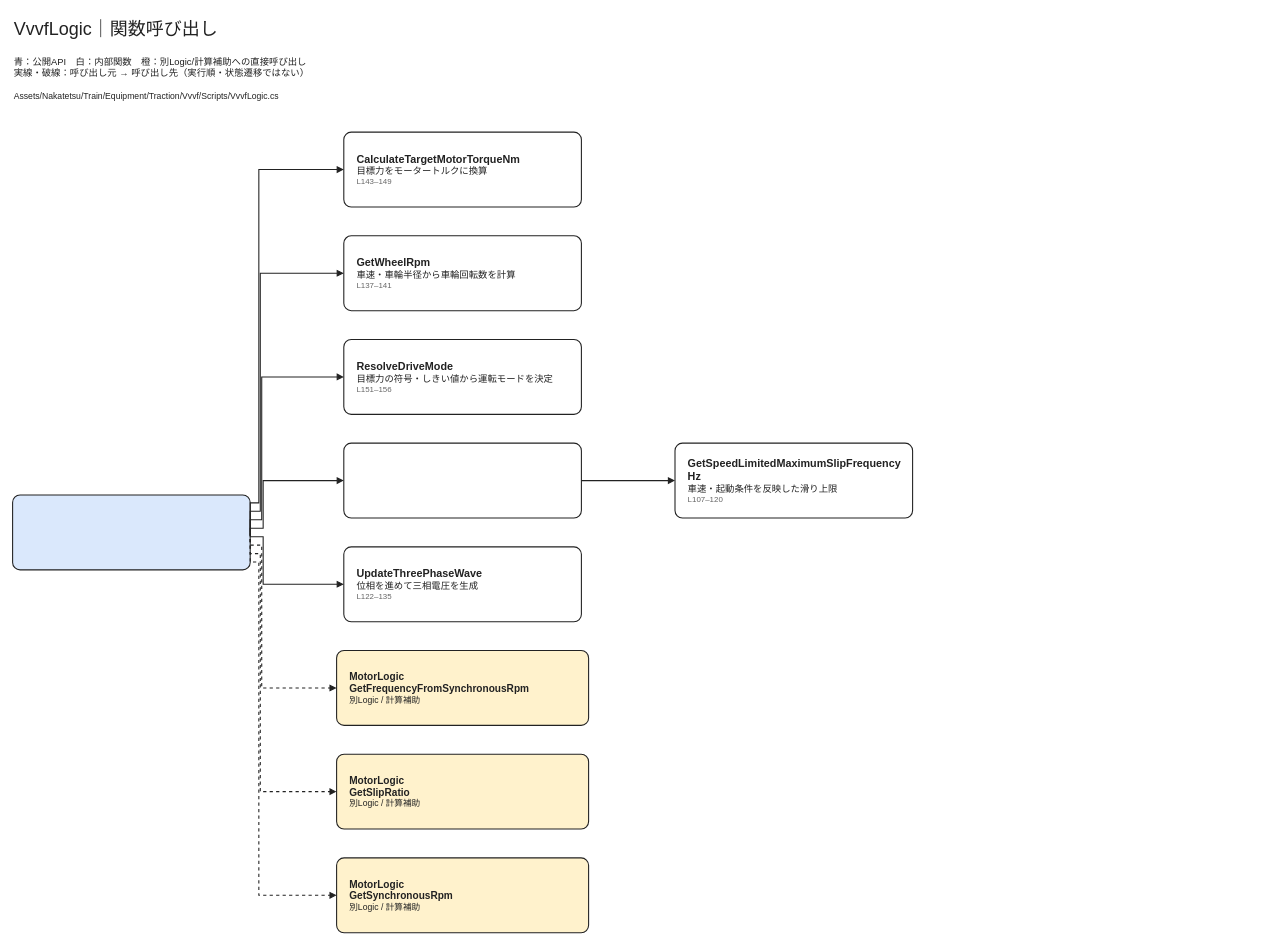
The diagram is 1285 pixels wide and 945 high, and some of its shapes have lost their labels. Each missing label, with the centre of its shape:
"Calculate VVVFの更新・計算 L9–69" goes at [131,532].
"Update Slip Frequency トルク偏差と上限から滑り周波数を更新 L71–105" goes at [462,480].
